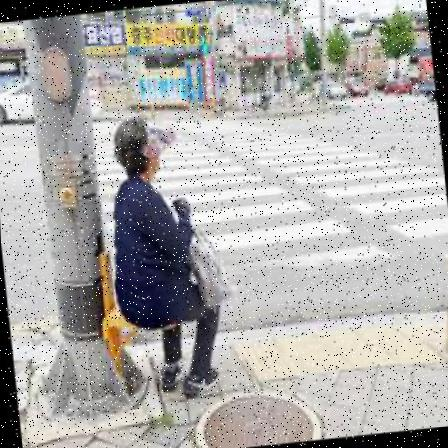silver: (86, 110, 228, 404)
